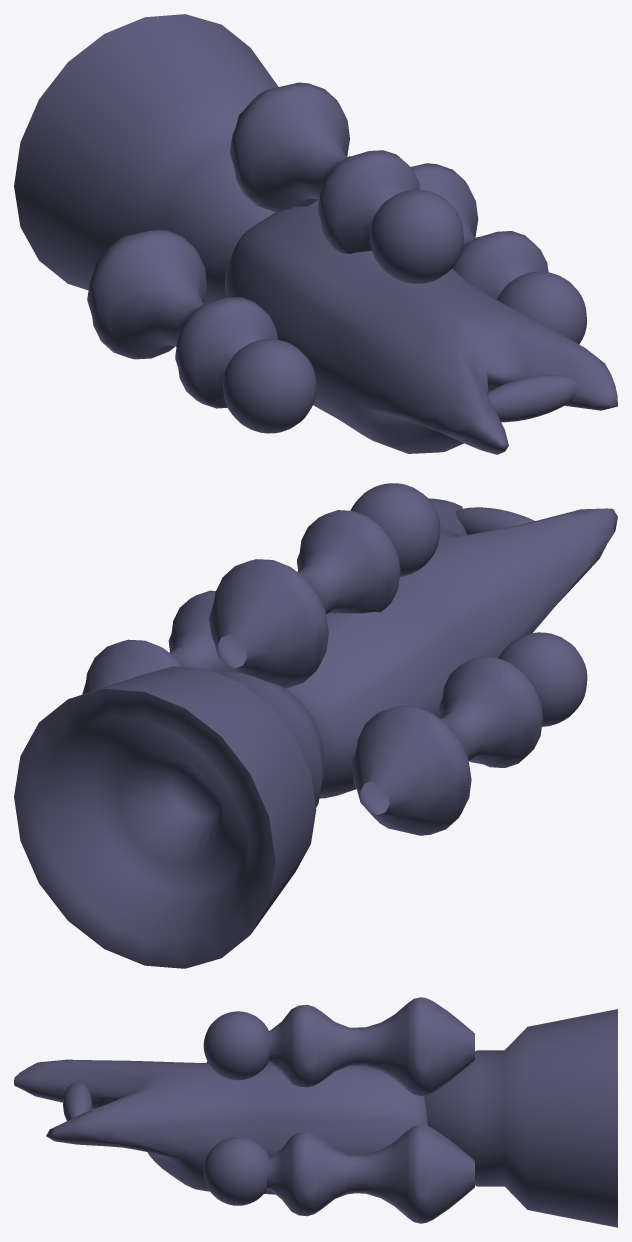
3 renders of one model, top to bottom at view 1: azimuth 30°, elevation 25°; view 2: azimuth 150°, elevation 25°; view 3: azimuth 270°, elevation 25°, orthographic. The views are drawn at different scales.
Parts seen in each view (by area): view 1: pCylinder3, polySurface3, extrudedSurface3, extrudedSurface4, pSphere4, pSphere5, extrudedSurface2, pSphere3, pSphere6; view 2: pCylinder3, polySurface3, extrudedSurface3, extrudedSurface4, extrudedSurface2, pSphere4, pSphere5, pSphere6; view 3: polySurface3, pCylinder3, extrudedSurface2, extrudedSurface4, pSphere5, pSphere3, pSphere6.
Boxes of the visible parts, left/top/right/bottom form: pCylinder3: left=14, top=14, right=318, bottom=303; polySurface3: left=225, top=206, right=617, bottom=454; extrudedSurface3: left=87, top=229, right=277, bottom=408; extrudedSurface4: left=230, top=82, right=419, bottom=253; pSphere4: left=222, top=339, right=316, bottom=433; pSphere5: left=370, top=189, right=463, bottom=283; extrudedSurface2: left=411, top=163, right=548, bottom=299; pSphere3: left=497, top=271, right=586, bottom=344; pSphere6: left=487, top=375, right=577, bottom=422; pCylinder3: left=14, top=666, right=323, bottom=968; polySurface3: left=285, top=498, right=617, bottom=798; extrudedSurface3: left=351, top=656, right=543, bottom=835; extrudedSurface4: left=209, top=510, right=400, bottom=688; extrudedSurface2: left=82, top=590, right=232, bottom=694; pSphere4: left=498, top=632, right=587, bottom=726; pSphere5: left=350, top=483, right=440, bottom=576; pSphere6: left=455, top=507, right=534, bottom=534; polySurface3: left=14, top=1059, right=427, bottom=1194; pCylinder3: left=424, top=1009, right=617, bottom=1227; extrudedSurface2: left=266, top=1124, right=474, bottom=1223; extrudedSurface4: left=268, top=997, right=474, bottom=1096; pSphere5: left=203, top=1011, right=269, bottom=1080; pSphere3: left=203, top=1137, right=269, bottom=1205; pSphere6: left=63, top=1082, right=92, bottom=1120.
Bounding box in the file's own units: 54.5 × 41.04 × 102.
